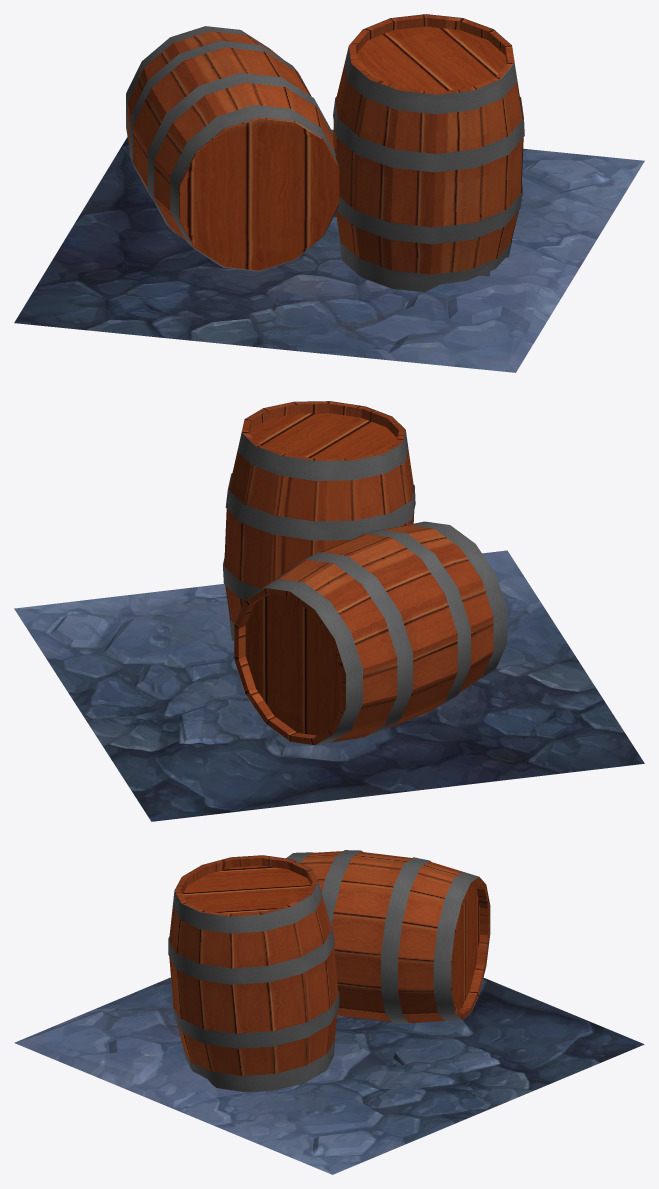
Rendered from BARRELDAE.dae.
3 renders of one model, top to bottom at view 1: azimuth 30°, elevation 25°; view 2: azimuth 150°, elevation 25°; view 3: azimuth 270°, elevation 25°, orthographic. The views are drawn at different scales.
Parts seen in each view (by area): view 1: Plano, BARR, BARR.001; view 2: Plano, BARR.001, BARR; view 3: Plano, BARR, BARR.001.
Part boxes in pixels (<box>): Plano: <box>14,129,644,372</box>; BARR: <box>333,14,524,292</box>; BARR.001: <box>126,26,339,271</box>; Plano: <box>14,550,644,821</box>; BARR.001: <box>234,521,507,745</box>; BARR: <box>223,401,415,640</box>; Plano: <box>14,977,644,1174</box>; BARR: <box>168,855,339,1091</box>; BARR.001: <box>286,850,490,1023</box>.
Bounding box in the file's own units: 7.13 × 7.13 × 2.33.
3 materials, 3 textured.
